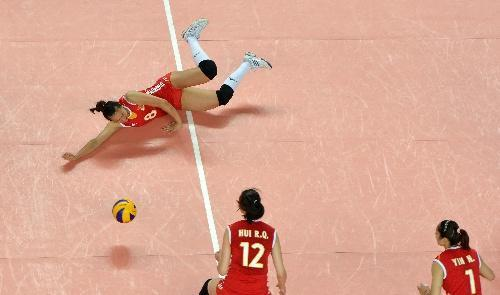Fall-Detected: (56, 4, 286, 171)
